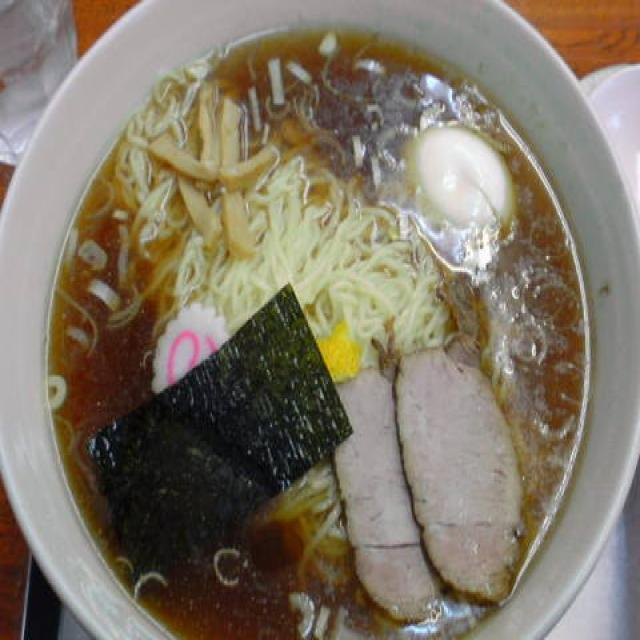面条主食: (0, 5, 632, 640)
